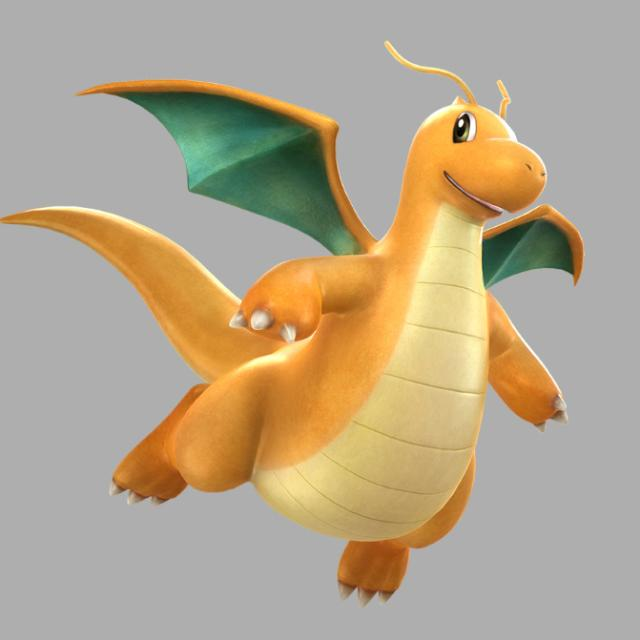Dragonite: (162, 100, 558, 582)
